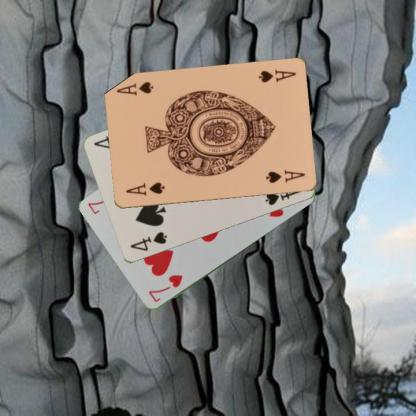4s: (127, 229, 169, 253)
7h: (146, 272, 184, 305)
As: (123, 180, 166, 197), (255, 67, 297, 84)
